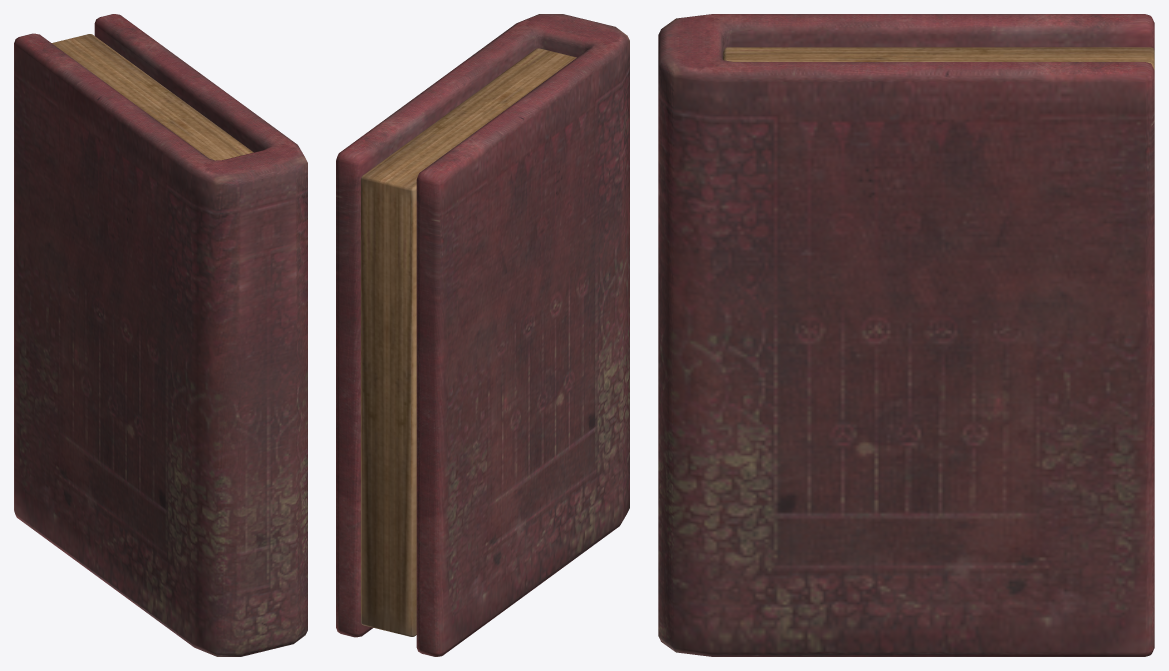
File: Book3.fbx
3 views of the same model, side by side, from view 1: azimuth 30°, elevation 25°; view 2: azimuth 150°, elevation 25°; view 3: azimuth 270°, elevation 25° (orthographic). The views are drawn at different scales.
Parts seen in each view (by area): view 1: Book; view 2: Book; view 3: Book.
Boxes of the visible parts, bbox=[...] form: Book: bbox=[14, 14, 307, 656]; Book: bbox=[336, 14, 629, 656]; Book: bbox=[658, 14, 1154, 656].
Size of the model in its own units: 7 by 30 by 23.
1 material, 1 textured.
